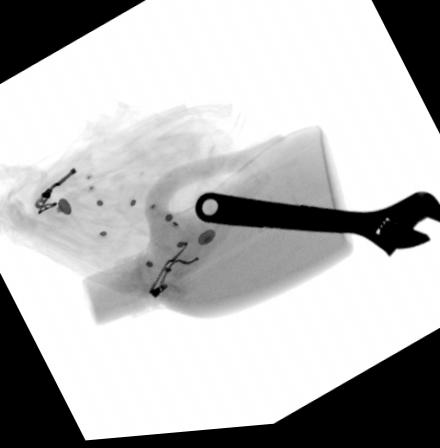Wrench: (190, 195, 440, 267)
